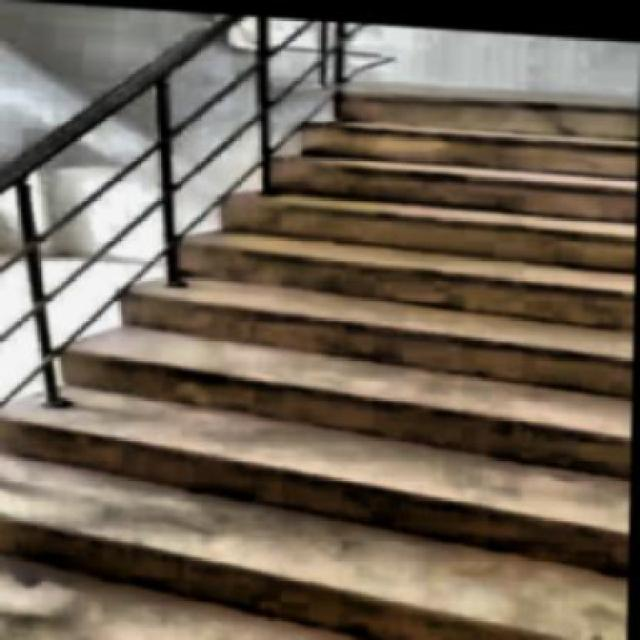stair: (0, 59, 638, 638)
